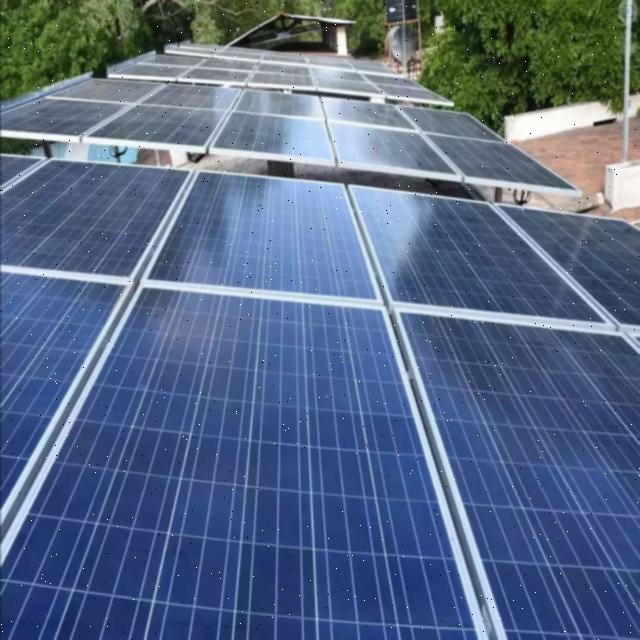clean: (14, 149, 636, 635)
